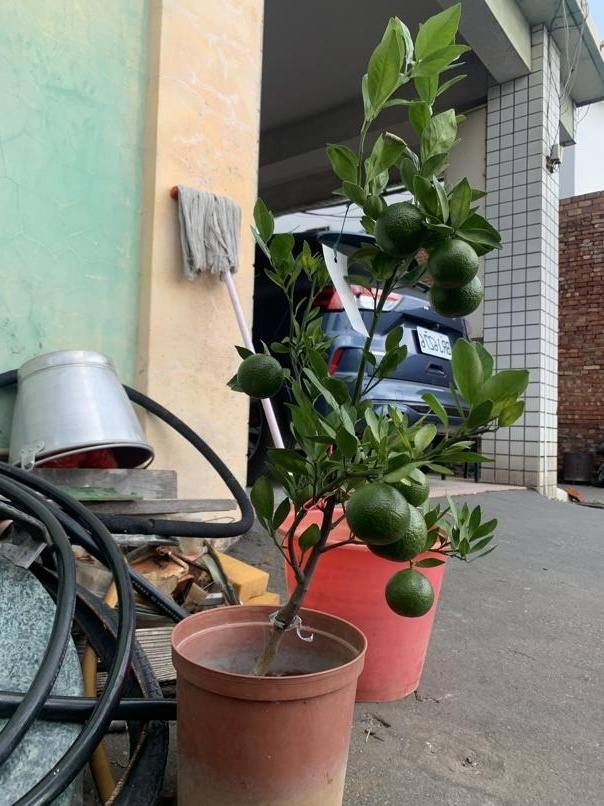Tangerine: (348, 480, 413, 545), (373, 198, 424, 261), (383, 564, 434, 618), (430, 237, 479, 287), (238, 353, 283, 398)
